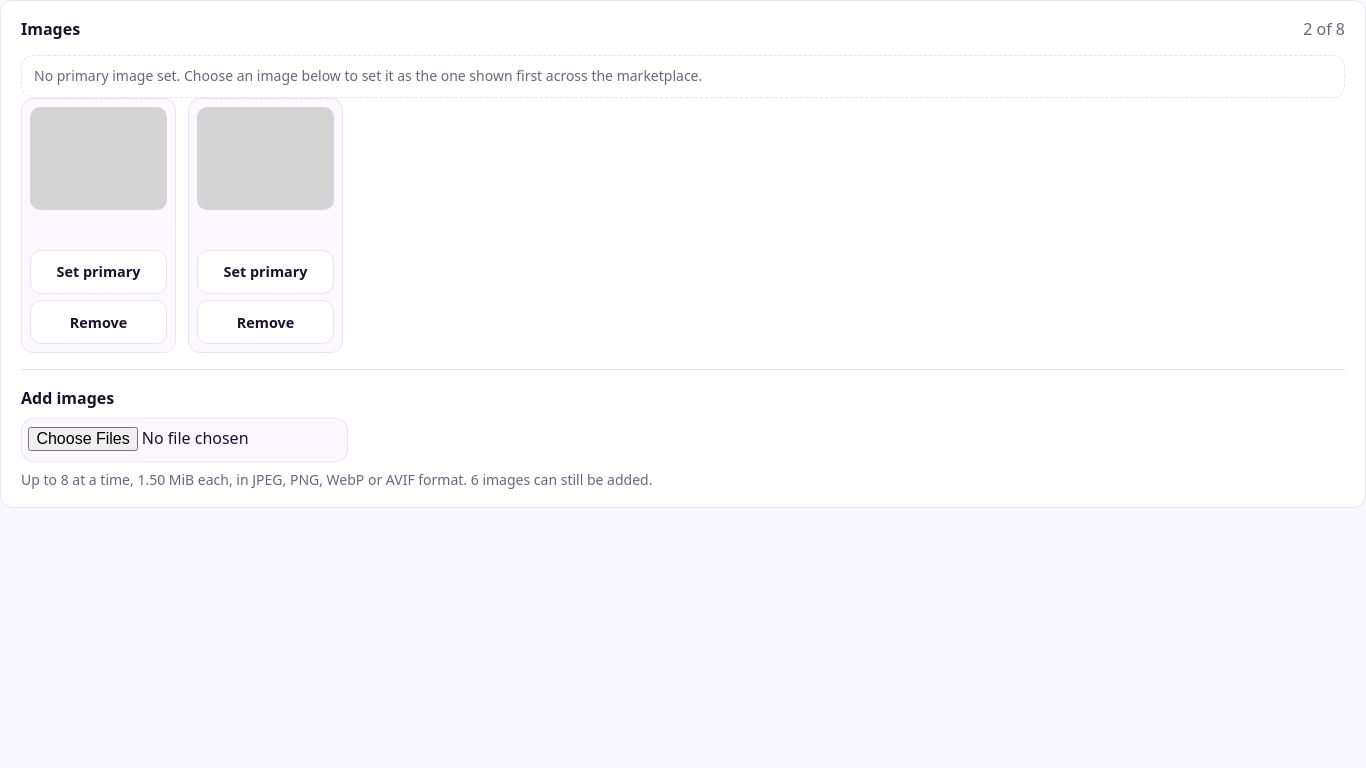
Scenario: ProductImageManager › error handling › leaves the gallery intact when a mutation fails
This screenshot has width=1366, height=768.
Click the button with aria-label "as the primary image". click: point(98, 272)
box: [30,250,167,294]
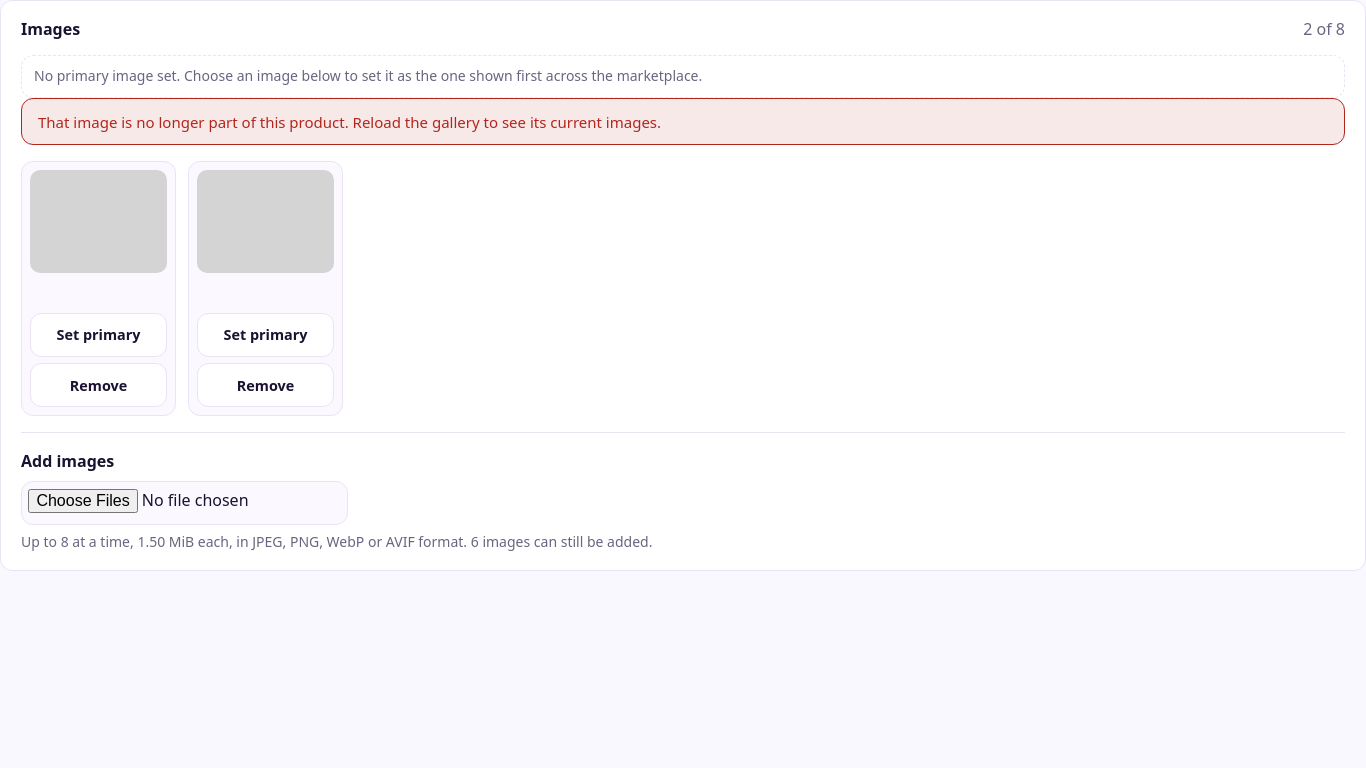
Now the text "no longer part of this product" is shown, box [38,112,661,132]
